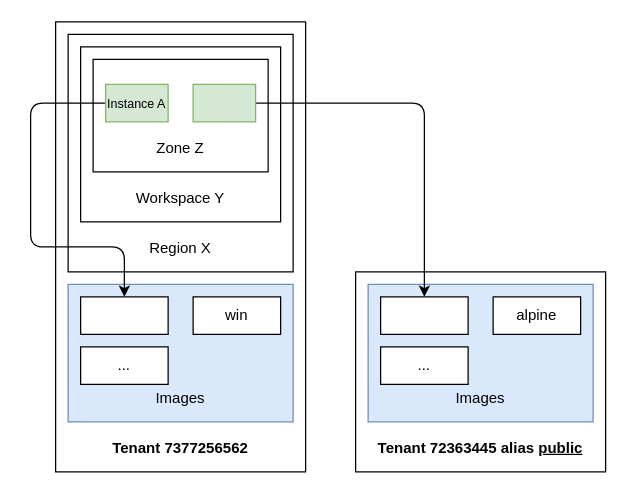
Image size: 628x494. Some labels were removed from this diagram. The centre of each missing label's shape, as x and y in pixels:
debian: the point at 423,315
Instance B: the point at 224,102
securelinux: the point at 123,315
